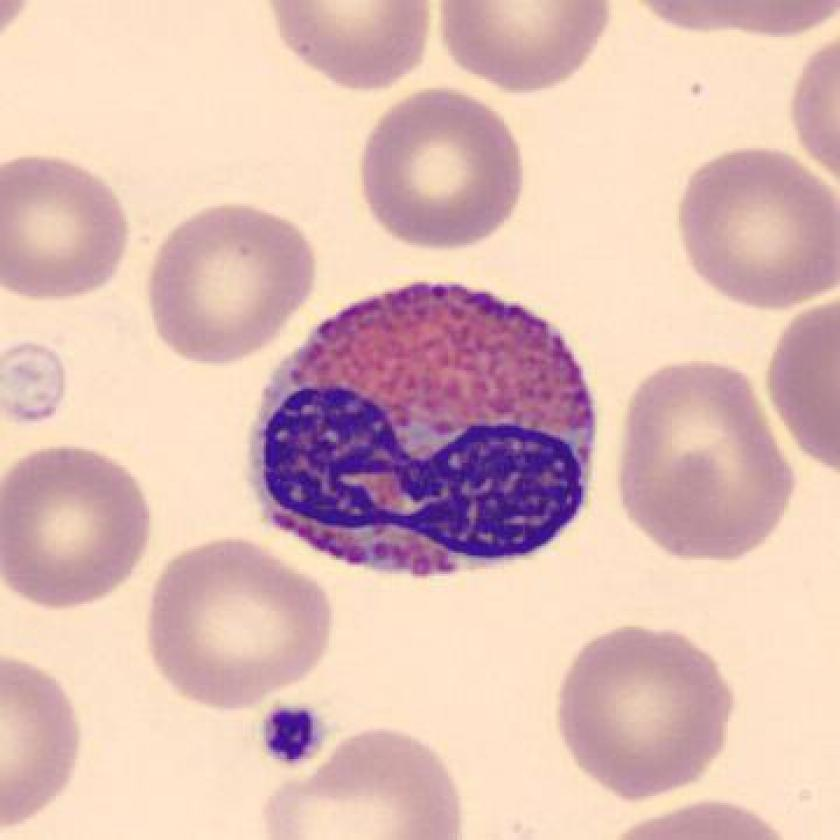eosinophil: (237, 272, 610, 600)
